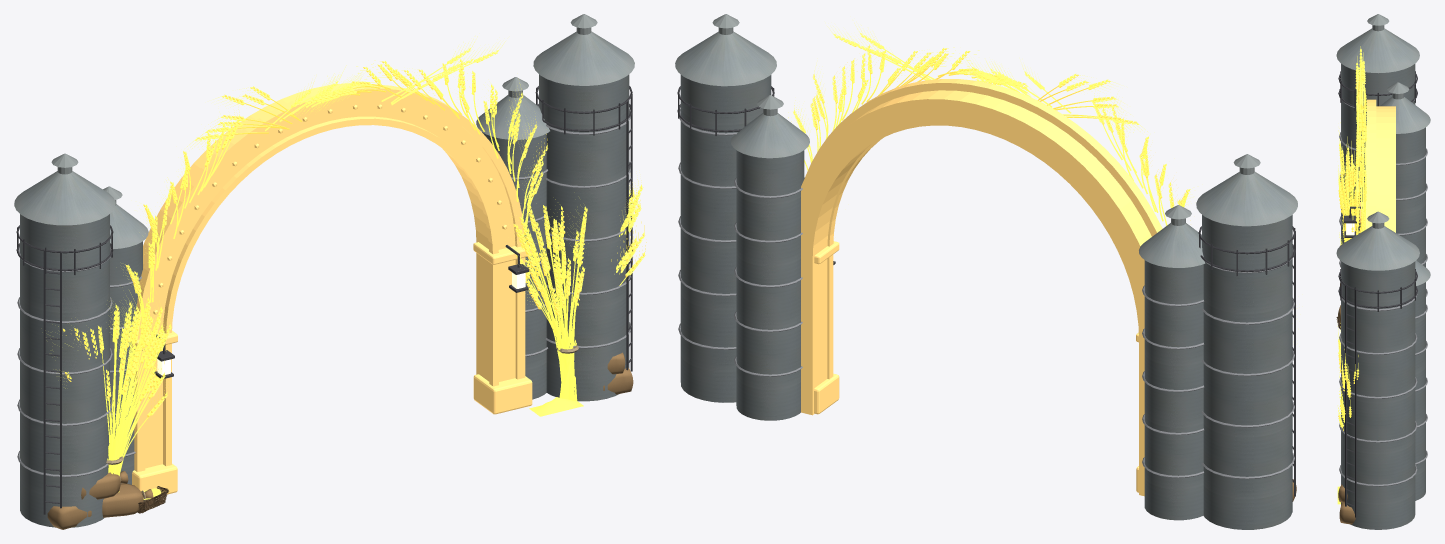
Rendered from fachada_09.glb.
The picture shows the model from 3 angles, left to right: view 1: azimuth 30°, elevation 25°; view 2: azimuth 150°, elevation 25°; view 3: azimuth 270°, elevation 25°; orthographic projection. The views are drawn at different scales.
Parts seen in each view (by area): view 1: F09_chapa, F09_ouro, F09_trigo, F09_telha, F09_ferro, F09_juta, F09_aro; view 2: F09_chapa, F09_ouro, F09_telha, F09_trigo, F09_aro, F09_ferro; view 3: F09_chapa, F09_telha, F09_trigo, F09_ouro, F09_ferro, F09_aro, F09_juta.
Boxes of the visible parts, x1,y1,x2,y2 form: F09_chapa: [20, 74, 629, 527]; F09_ouro: [131, 83, 532, 494]; F09_trigo: [58, 36, 646, 499]; F09_telha: [14, 14, 634, 249]; F09_ferro: [16, 86, 632, 514]; F09_juta: [47, 352, 633, 529]; F09_aro: [17, 108, 630, 477]; F09_chapa: [680, 74, 1292, 529]; F09_ouro: [801, 79, 1162, 496]; F09_telha: [675, 14, 1297, 267]; F09_trigo: [788, 23, 1190, 225]; F09_aro: [678, 109, 1294, 479]; F09_ferro: [677, 86, 1295, 496]; F09_chapa: [1341, 63, 1425, 529]; F09_telha: [1336, 14, 1430, 285]; F09_trigo: [1337, 46, 1366, 504]; F09_ouro: [1359, 99, 1395, 232]; F09_ferro: [1338, 71, 1417, 517]; F09_aro: [1339, 92, 1427, 486]; F09_juta: [1338, 283, 1355, 524].
Size of the model in its own units: 12.4 by 7.56 by 2.03.
Materials: 10 (4 with a texture image).
